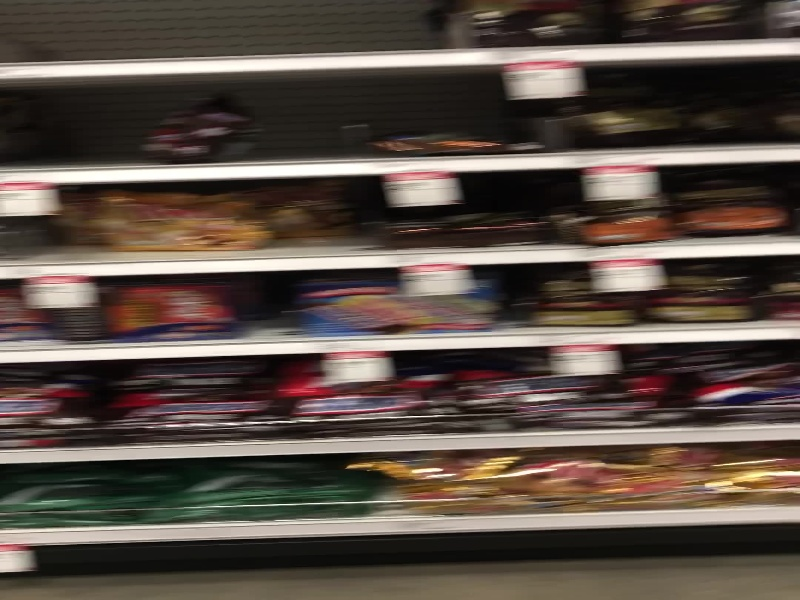empty_shelf_space: (1, 1, 437, 64), (1, 81, 140, 164), (251, 74, 366, 160)
